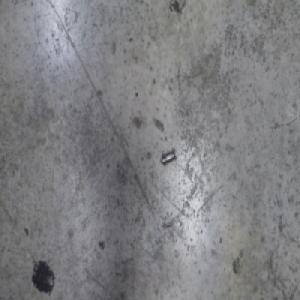Bolt: (160, 149, 176, 168)
